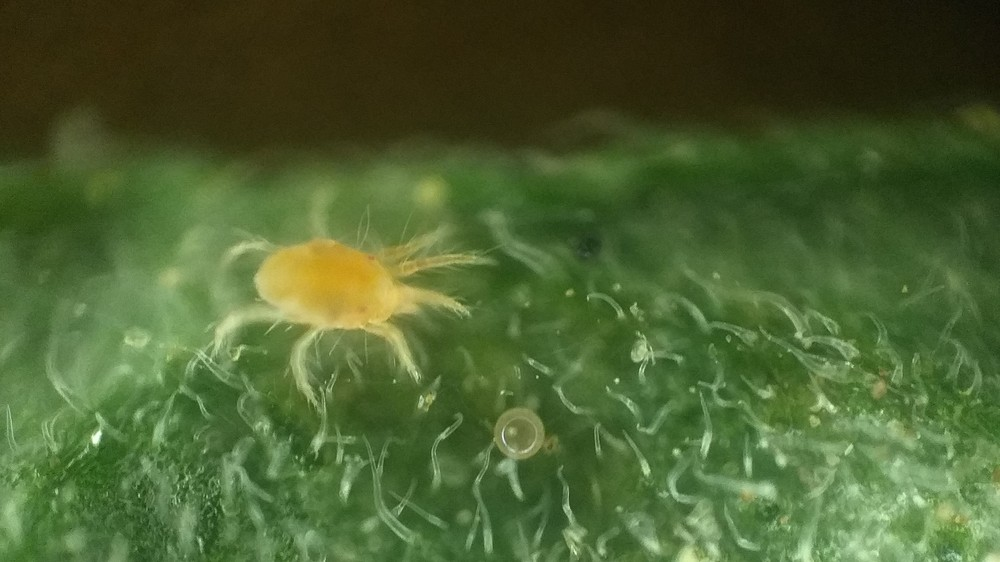Aracnido Rojo: (202, 190, 501, 408)
